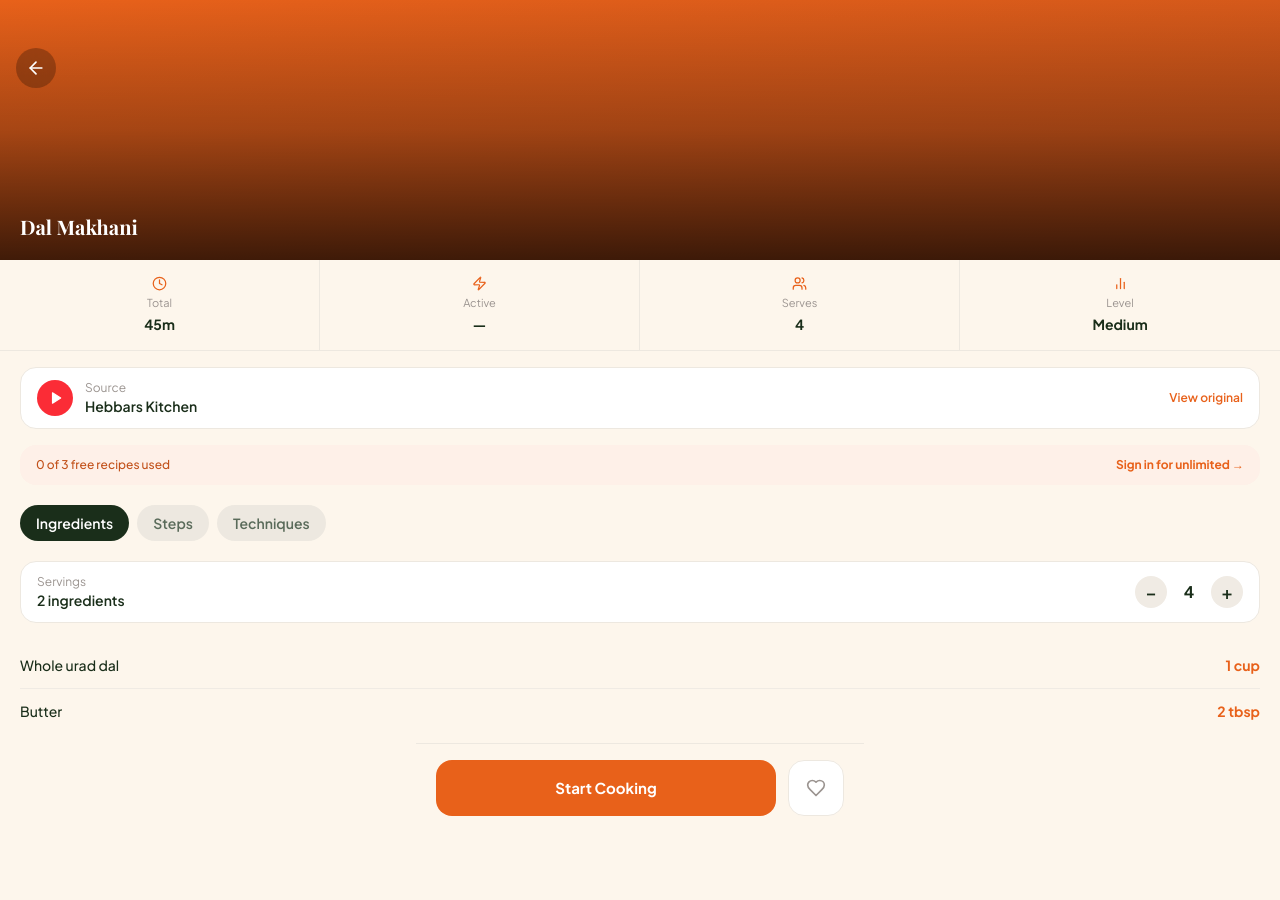
Test: RecipePage › switches to techniques tab and shows technique names not "Technique"
The width and height of the screenshot is (1280, 900).
Click the button "techniques" at [271, 522], box [217, 504, 326, 540]
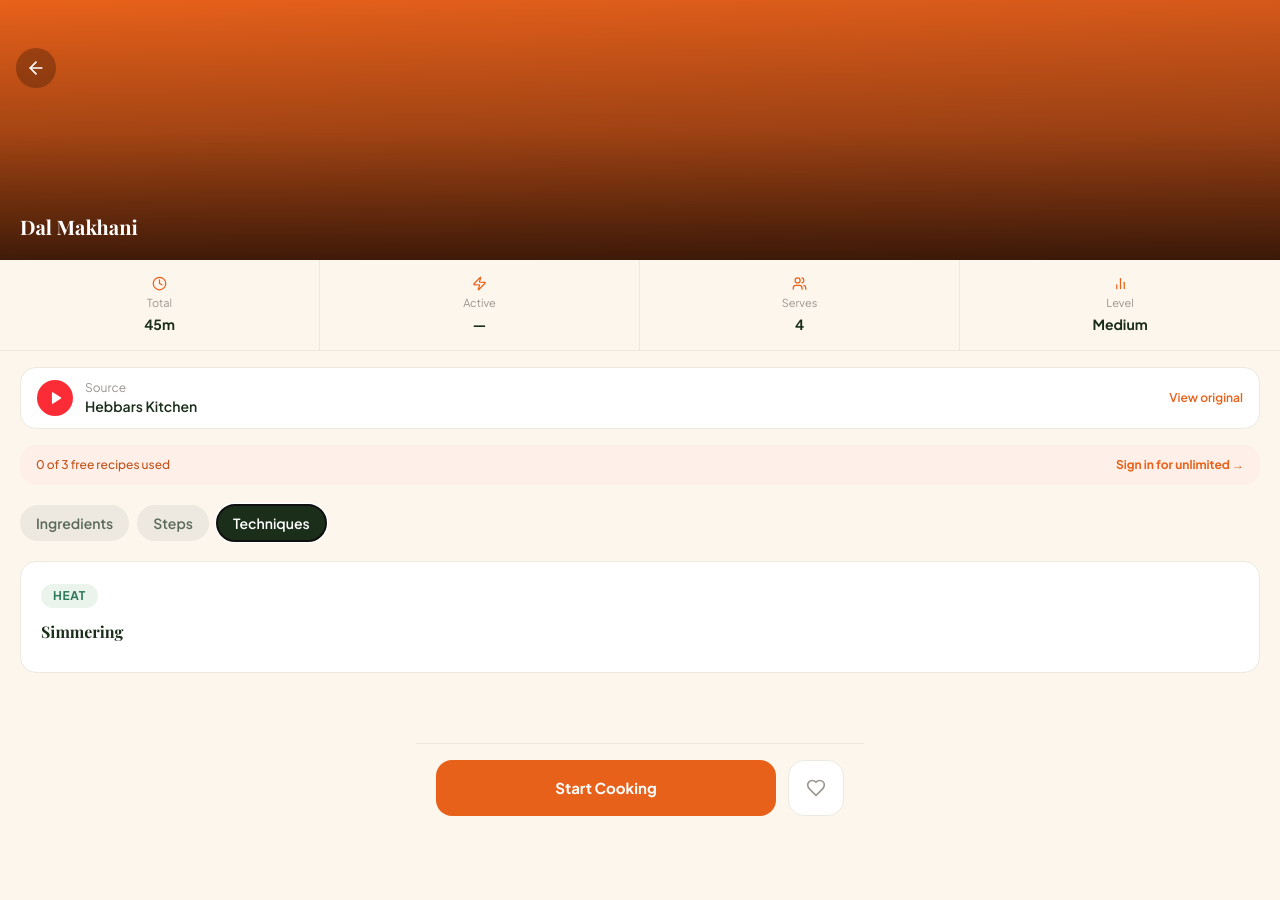
Check: the heading "Simmering" is shown, box [41, 620, 123, 642]
